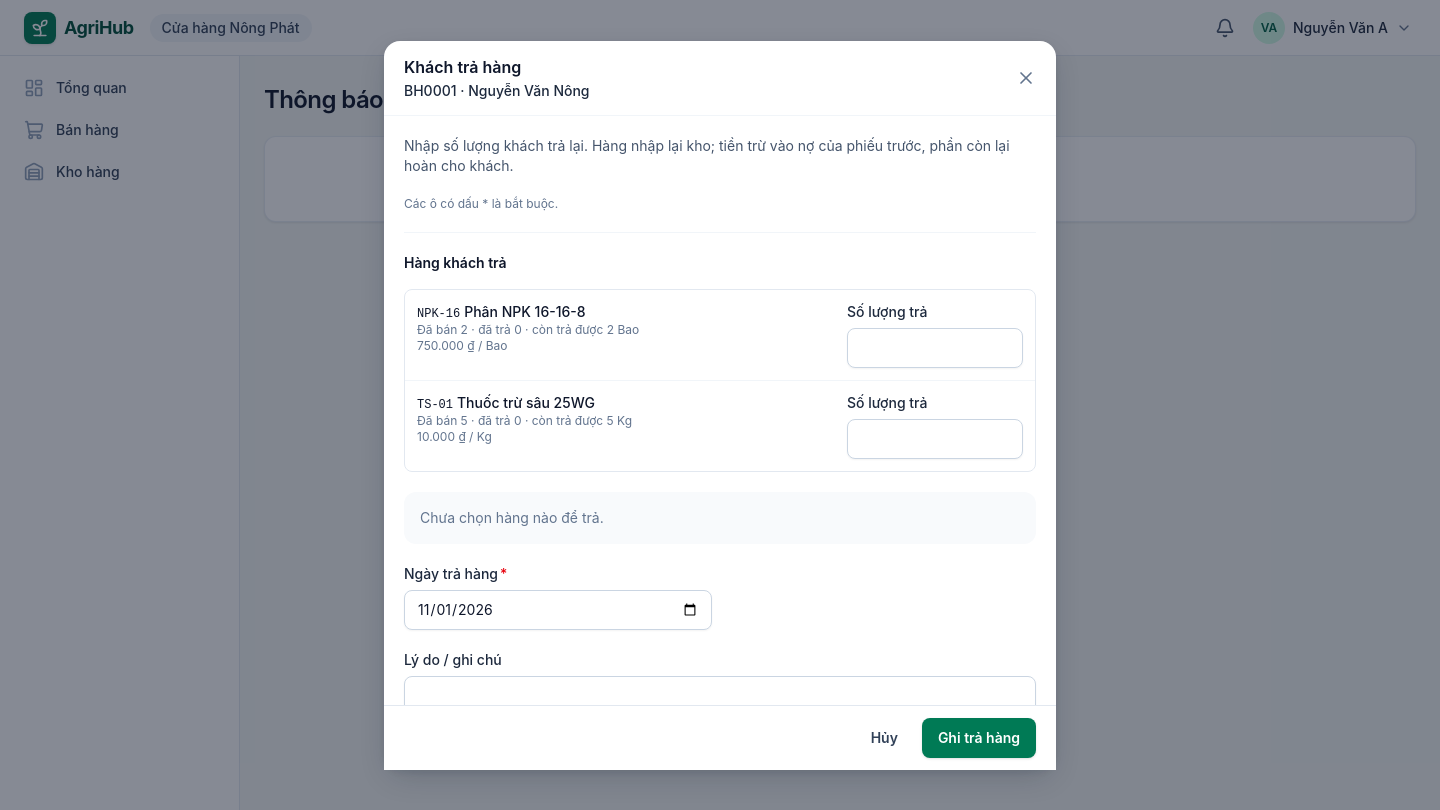
Test: trả hàng: popup › máy chủ từ chối thì báo ngay ở ô số lượng của đúng dòng
This screenshot has width=1440, height=810.
In the field labelled "Số lượng trả" below "Thuốc trừ sâu 25WG": [935, 438] box 847,418 -> 1023,458, type "2"
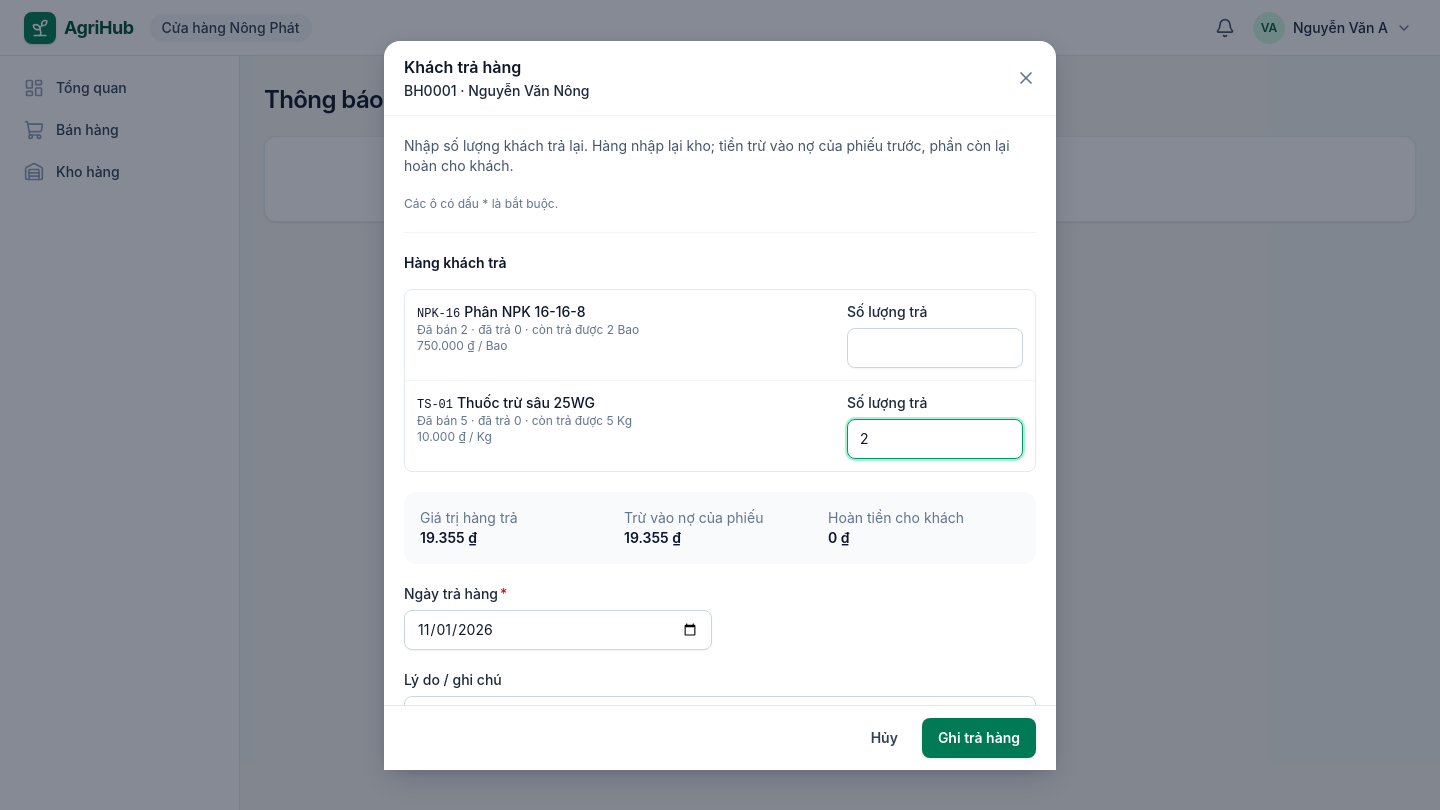
Click the button "Ghi trả hàng": [979, 738] box 922,718 -> 1036,758
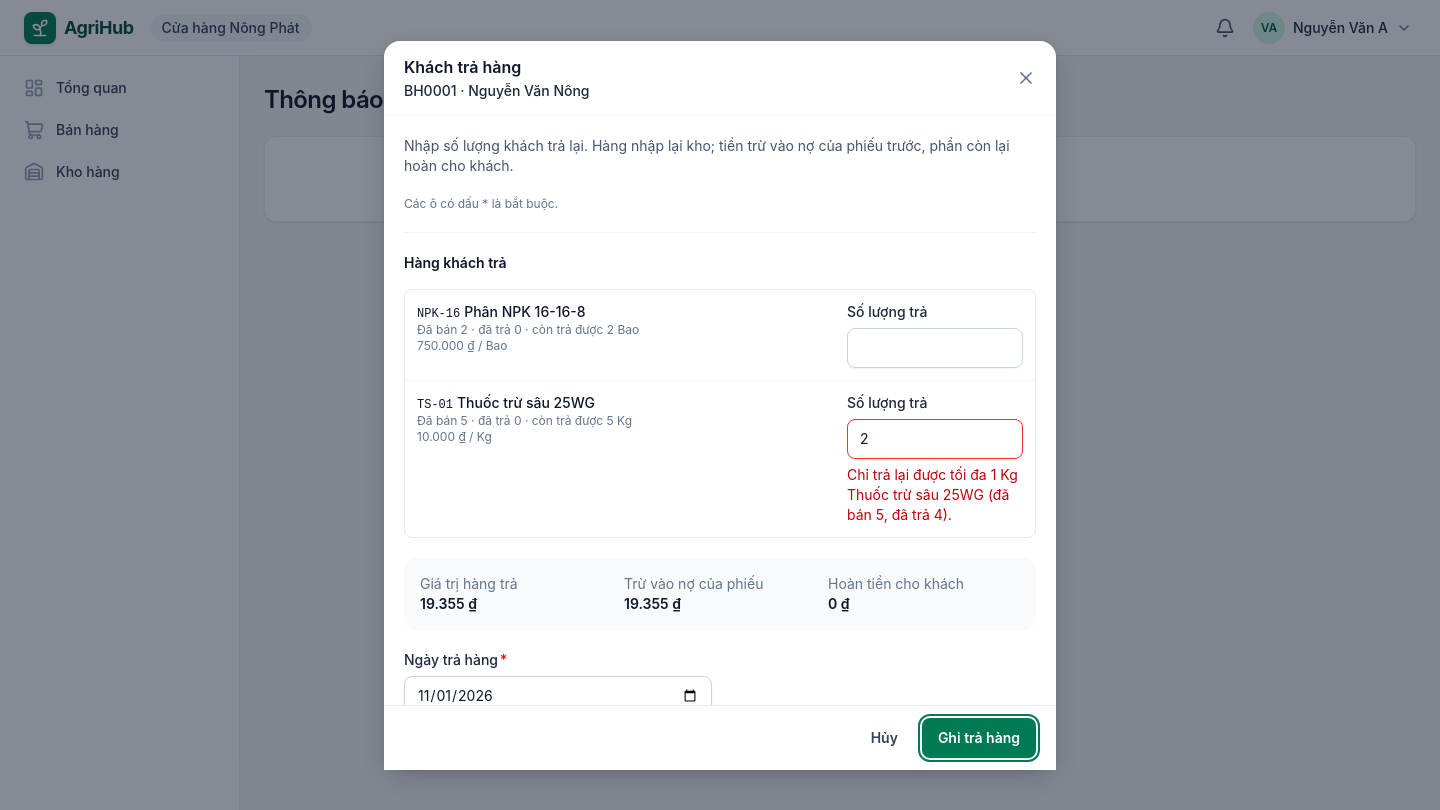
Expected: the text "Chỉ trả lại được tối đa 1 Kg Thuốc trừ sâu 25WG (đã bán 5, đã trả 4)." is shown, 847,464 -> 1023,524
